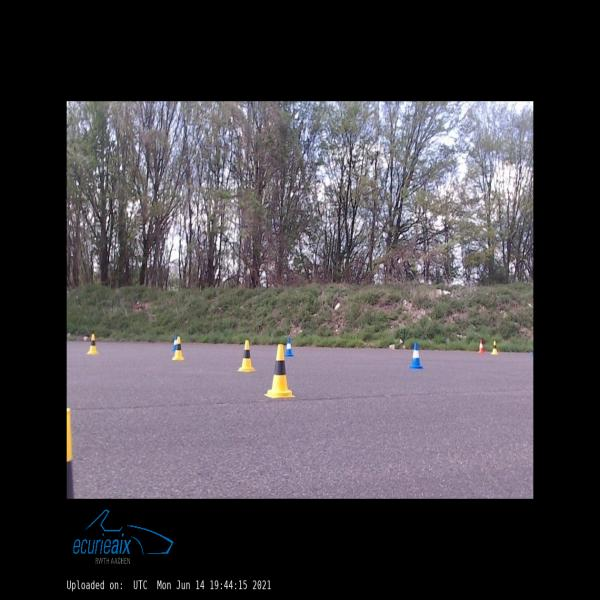blue_cone: (409, 342, 423, 369), (285, 338, 293, 357), (172, 336, 177, 350)
orange_cone: (478, 340, 484, 353)
yellow_cone: (265, 344, 295, 398), (237, 340, 256, 372), (172, 337, 184, 360), (86, 334, 98, 354), (492, 341, 498, 354)
